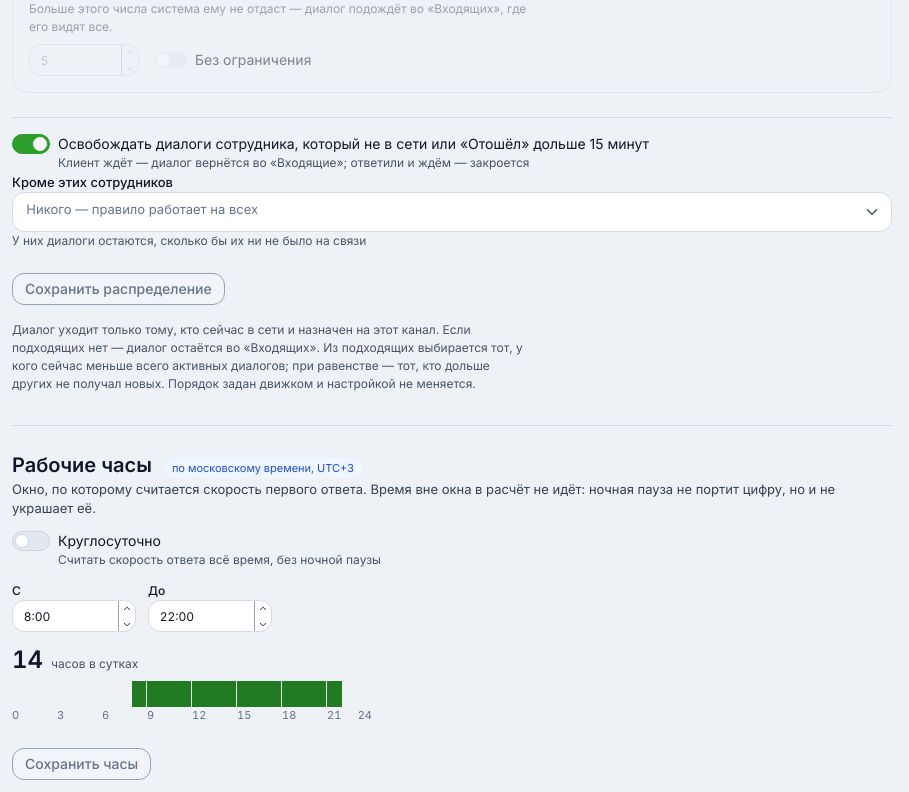
Scenario: Настройки распределения › не даёт сохранить окно, в котором конец не позже начала
The width and height of the screenshot is (909, 792).
(page scrolled)
Replace the text in the field named "Начало рабочего дня, час по Москве" with "0" at (74, 616), box 12,600 -> 136,632
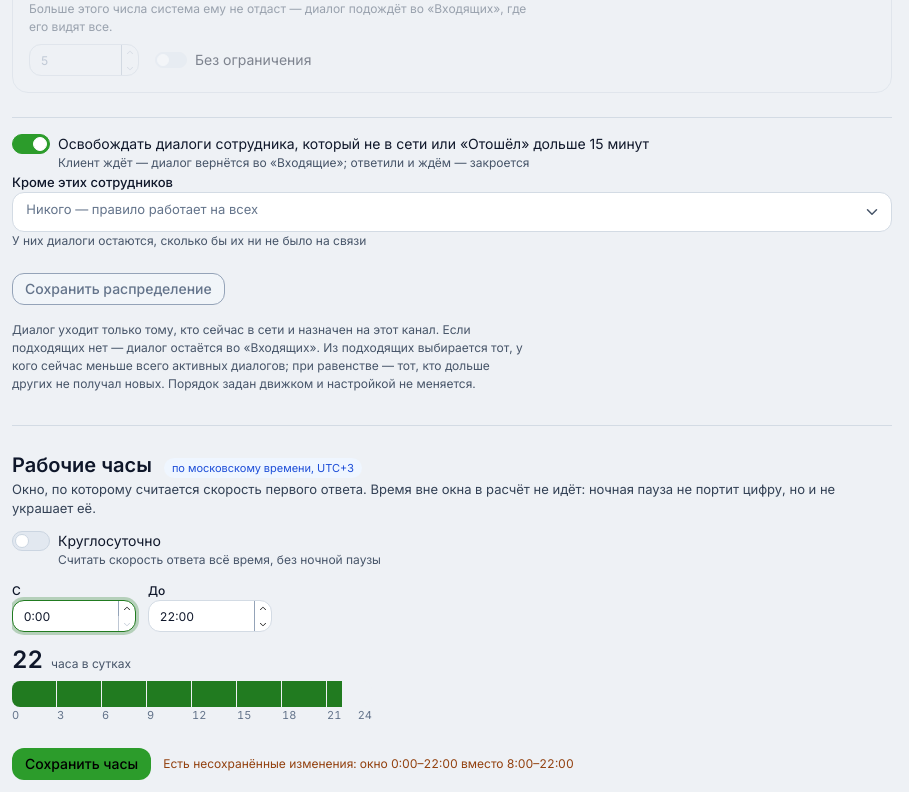
Replace the text in the field named "Конец рабочего дня, час по Москве" with "0" at (210, 616), box 148,600 -> 272,632
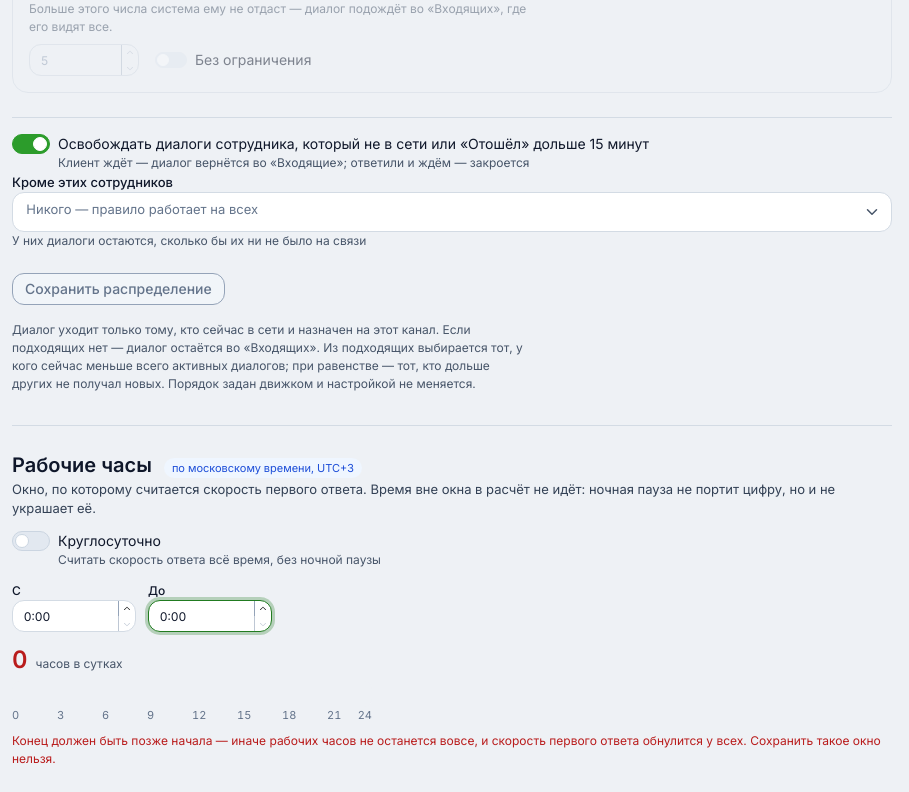
Expected: the message shows "Конец должен быть позже начала", 12,733 -> 881,766
